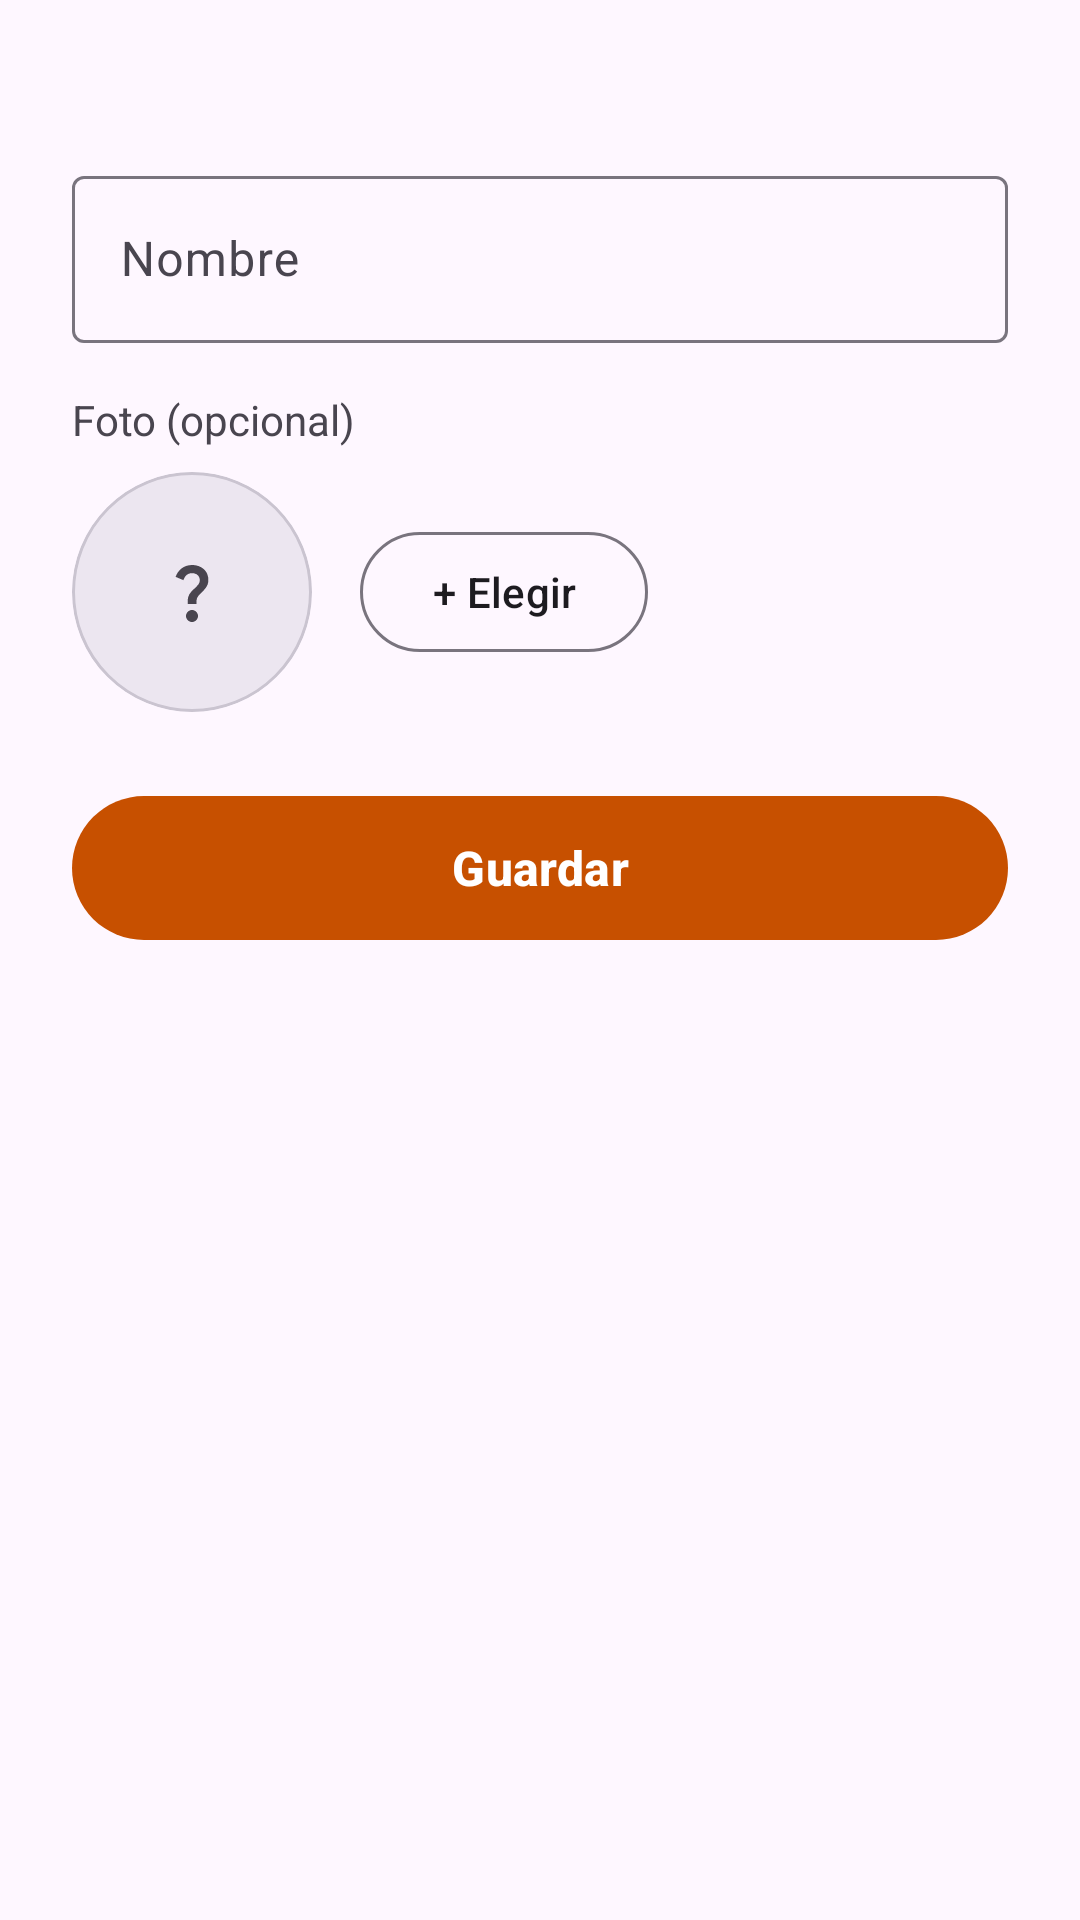

Icon click points for this 1080 x 1920 phone screenshot, format (x=x, y=y):
Sin foto: (x=192, y=592)
